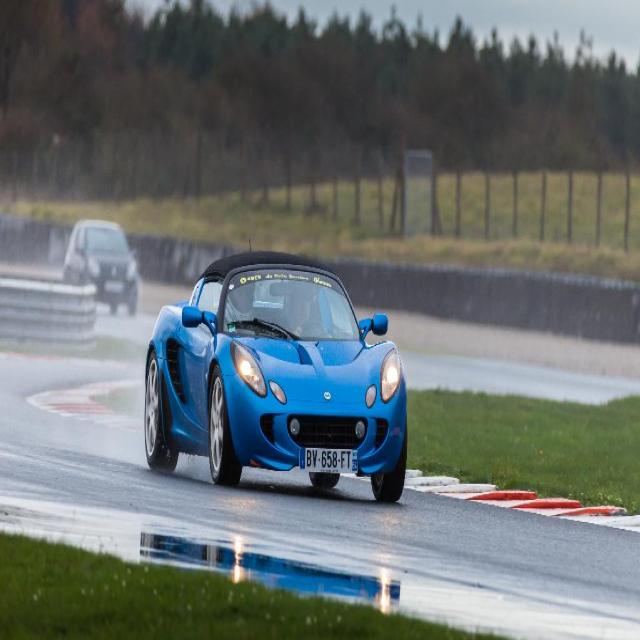car: (145, 236, 409, 504)
